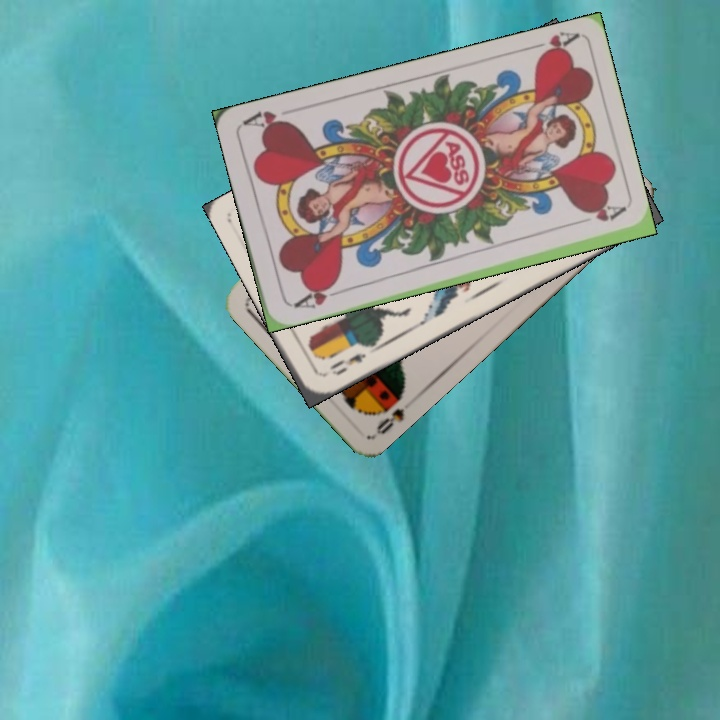EO: (325, 349, 369, 379)
HA: (521, 28, 580, 63), (287, 279, 345, 312)
SO: (372, 404, 407, 438)
